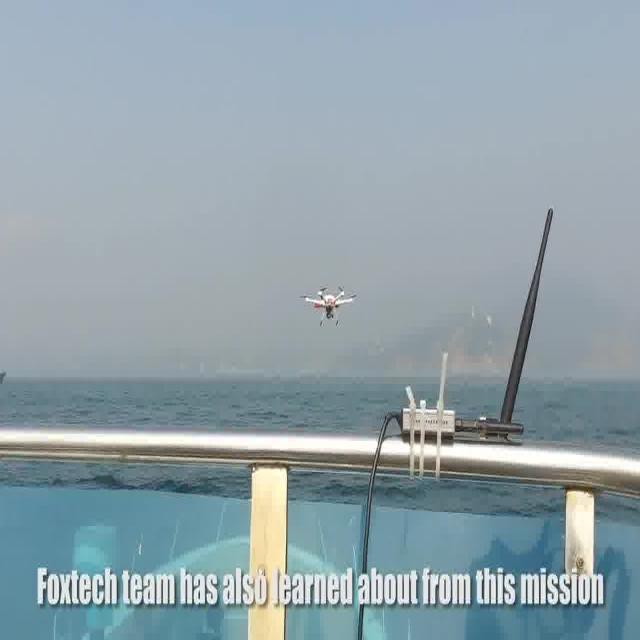drone: (298, 282, 356, 326)
